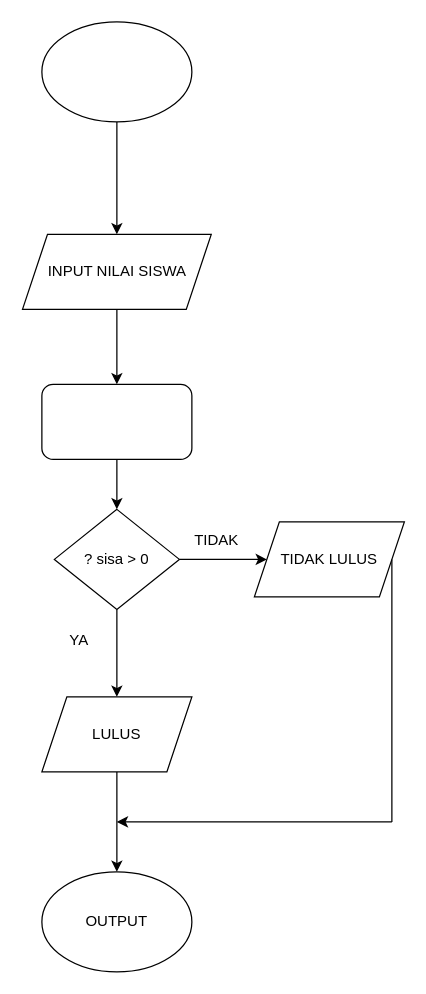
The diagram is 426 pixels wide and 994 high, and some of its shapes have lost their labels. Here are the shapes that lost their labels. From the top down, the box of each, then its label:
(41, 21, 192, 122): START
(41, 383, 192, 459): nilai siswa di kurang dengan nilai kkm
